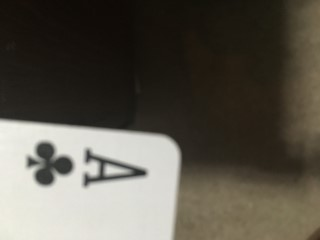AceOfClubs: (1, 119, 183, 240)
